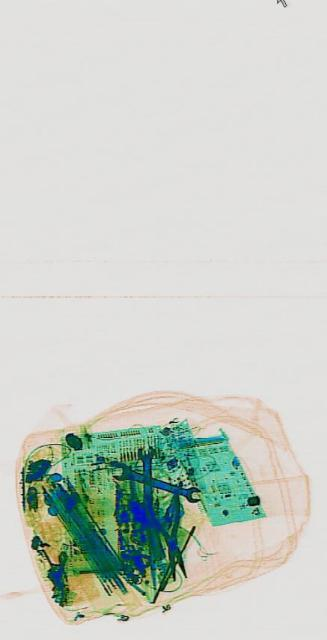Pliers: (145, 481, 192, 592)
Wrench: (111, 457, 200, 505), (136, 444, 156, 526)
